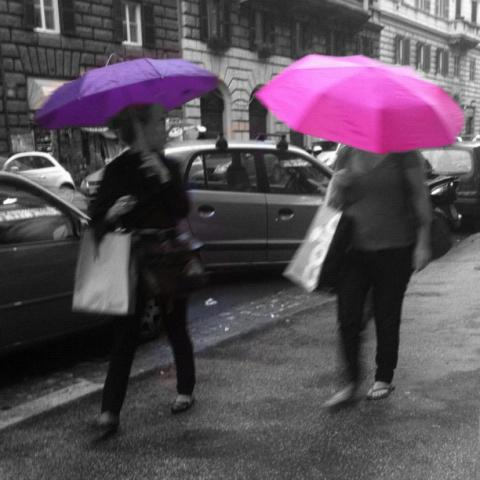car: (0, 170, 164, 360), (164, 130, 334, 269), (310, 140, 459, 254), (418, 140, 479, 229), (0, 150, 77, 204), (80, 166, 104, 197)
